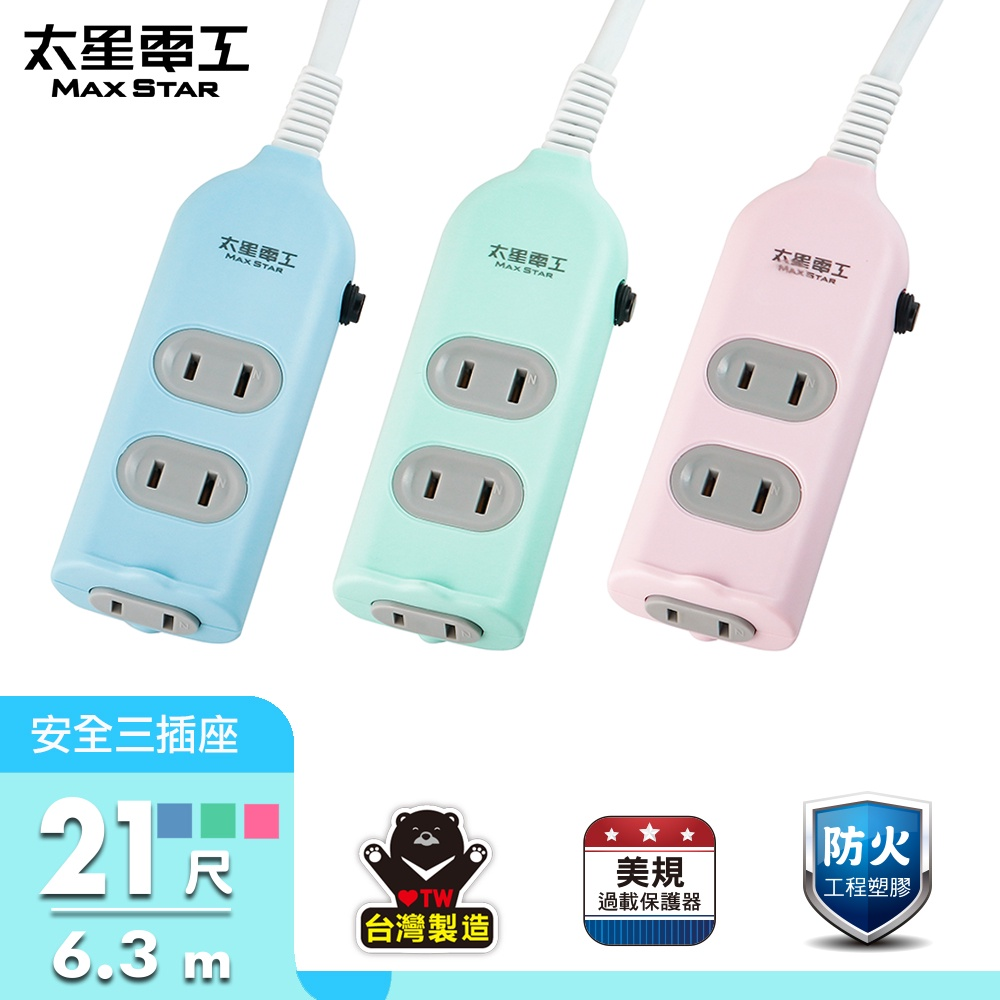socket: (606, 61, 923, 651), (51, 64, 368, 645), (332, 61, 637, 649)
